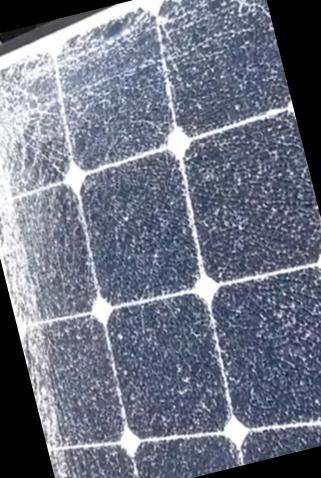Crack: (0, 68, 108, 477), (0, 0, 260, 159), (0, 48, 115, 210)
